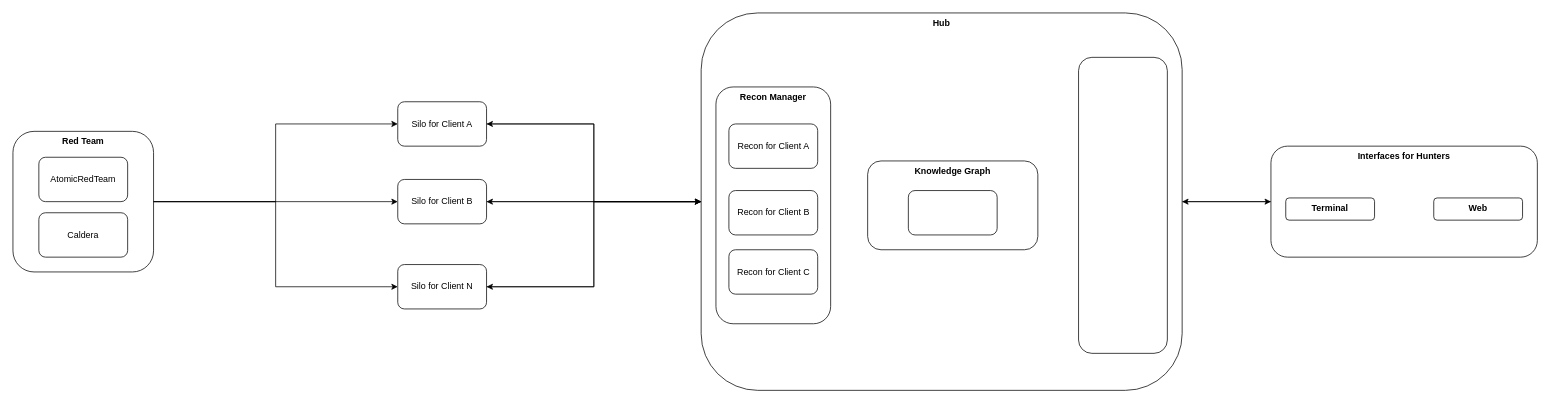
Some shapes in this 1550 by 403 pixel diagram are drawn without their labels. Here are the shapes that lost their labels. From the top down, the centre of each, then its label:
(x=952, y=212): STIX
(x=1122, y=205): Hub API
